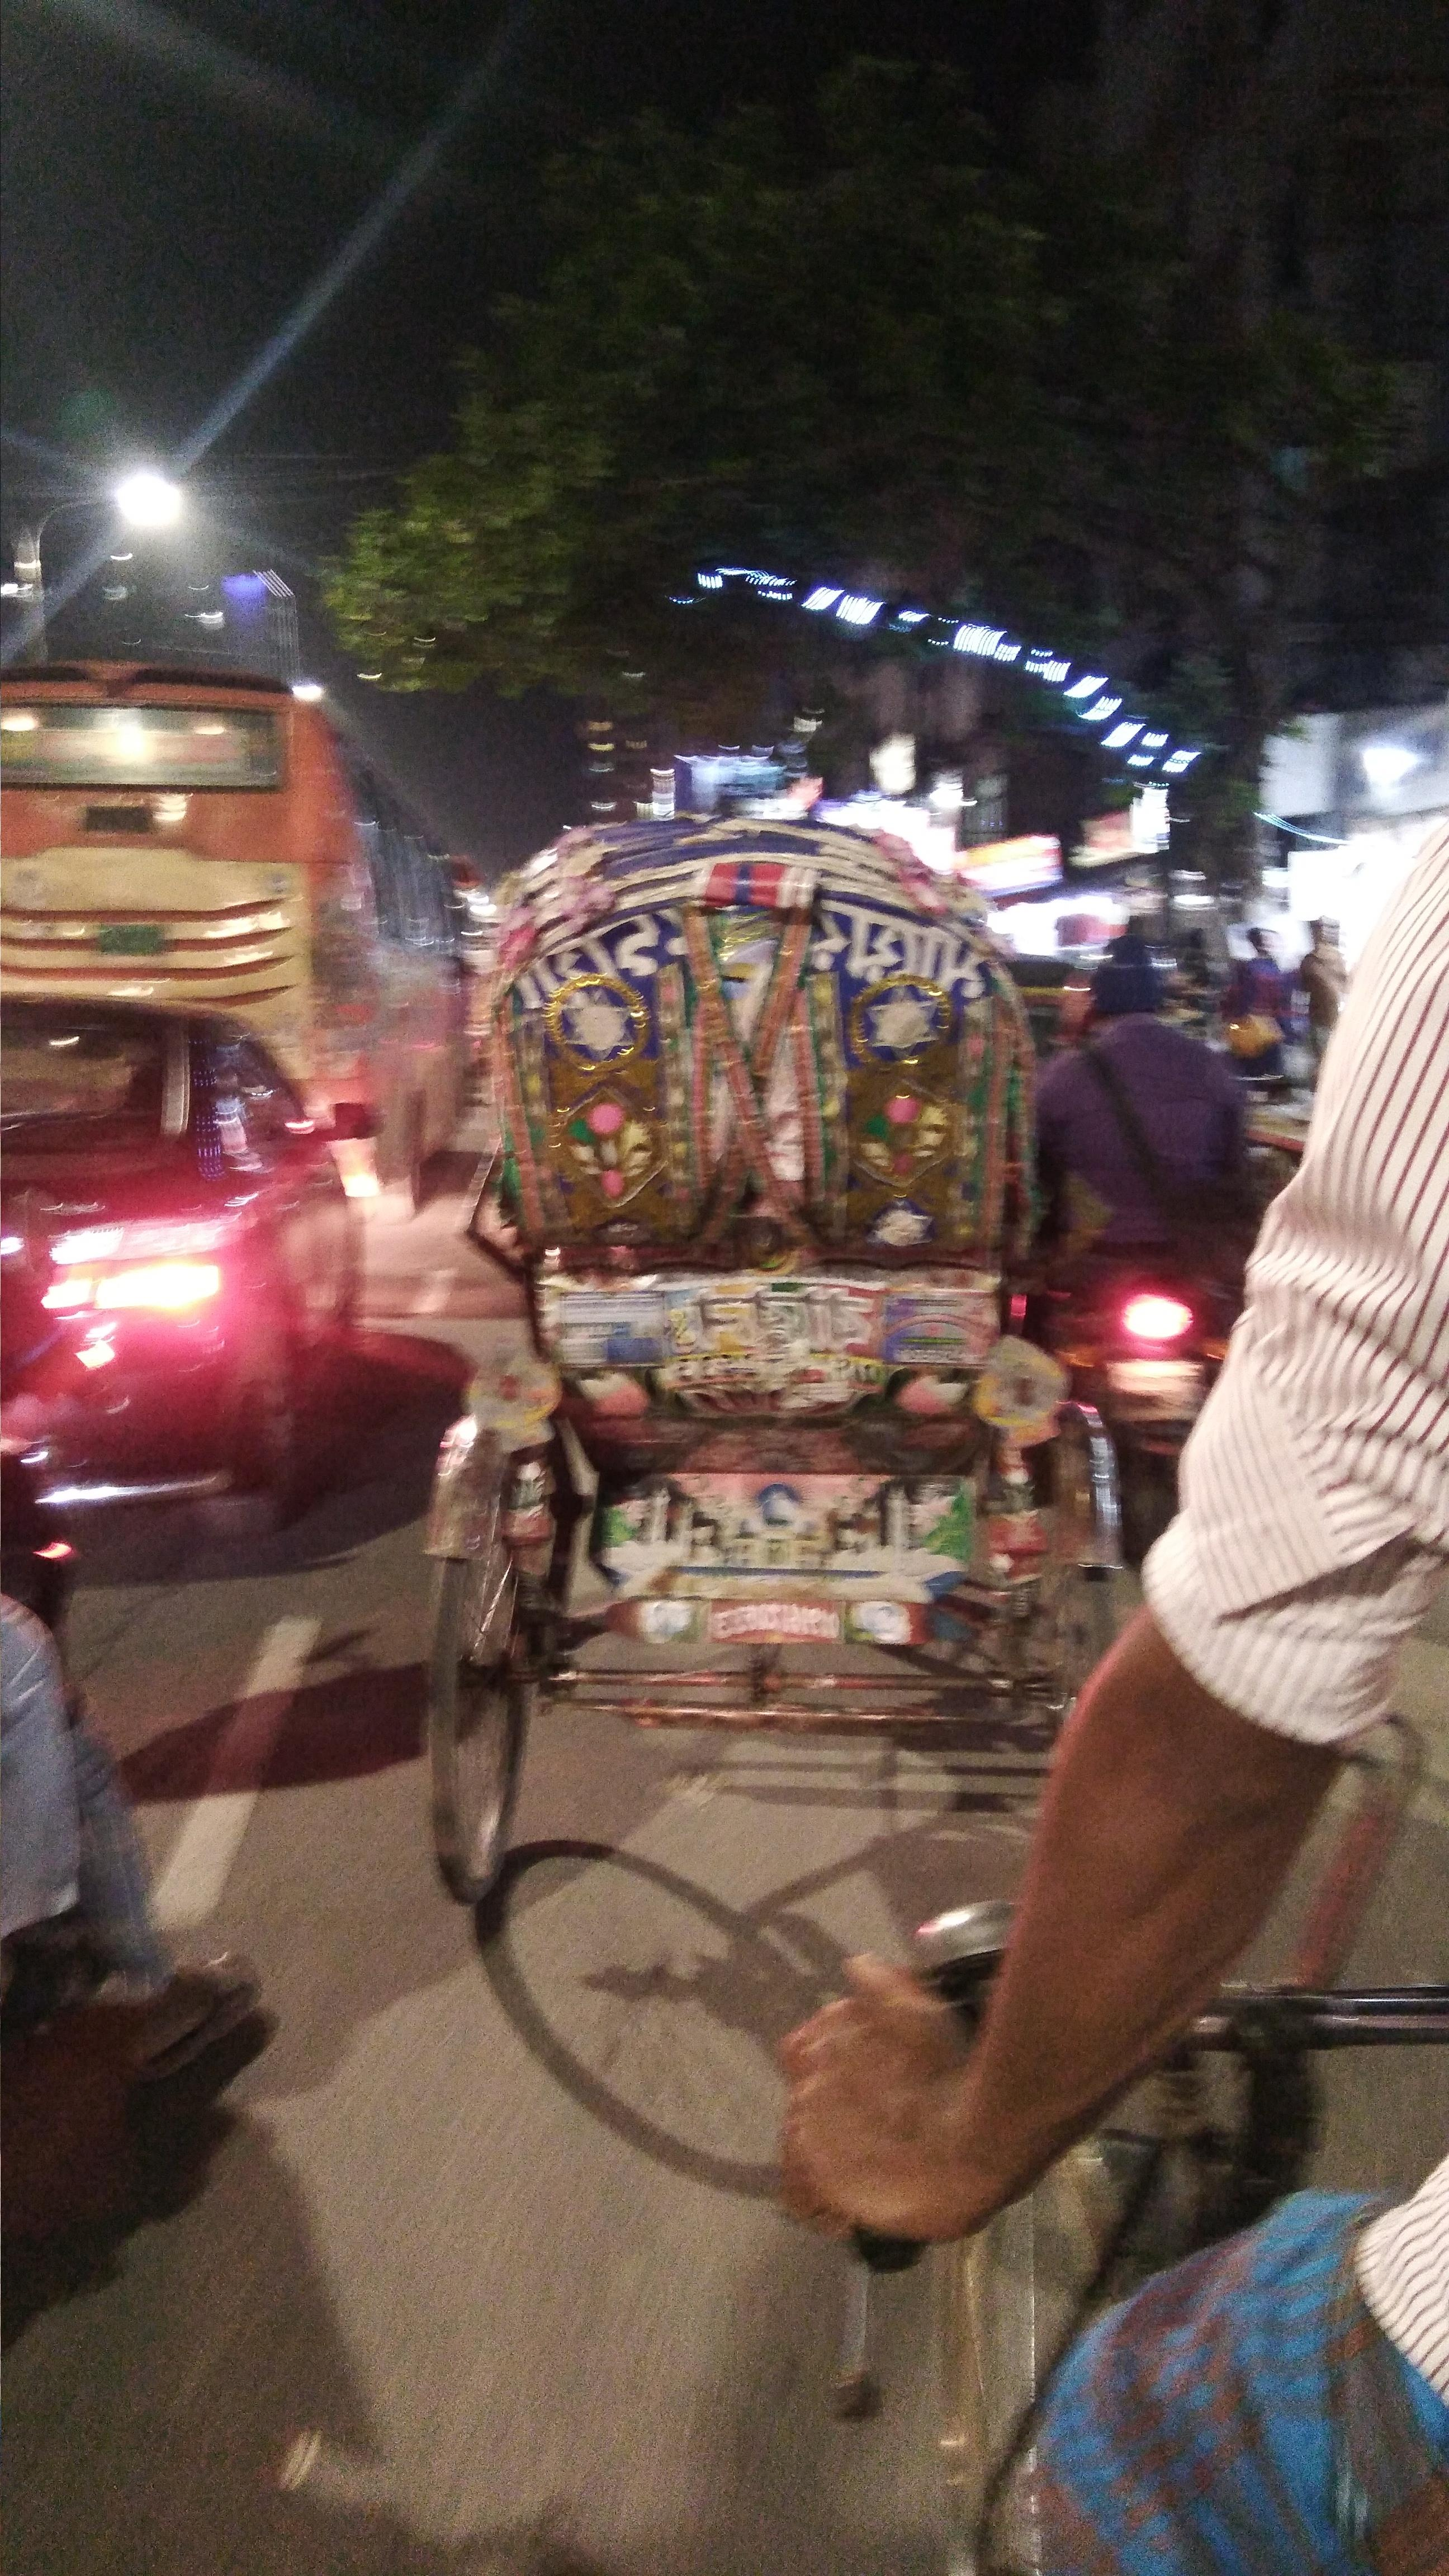Rickshaw: (366, 809, 1178, 1951)
